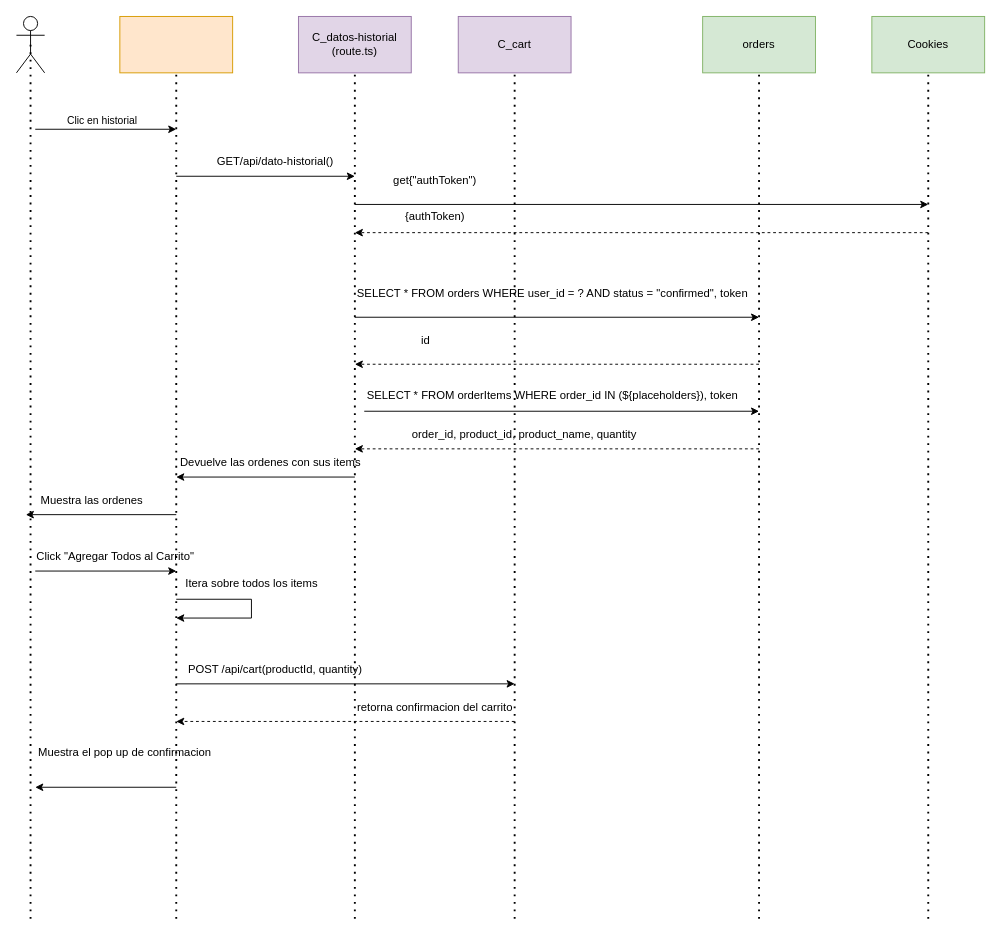
Some shapes in this 1001 by 937 pixel diagram are drawn without their labels. The shapes that lost their labels are listed below. From the top down, each one's centre as x and y in pixels, then its label:
the point at 30,44: Actor
the point at 176,44: V_historial
